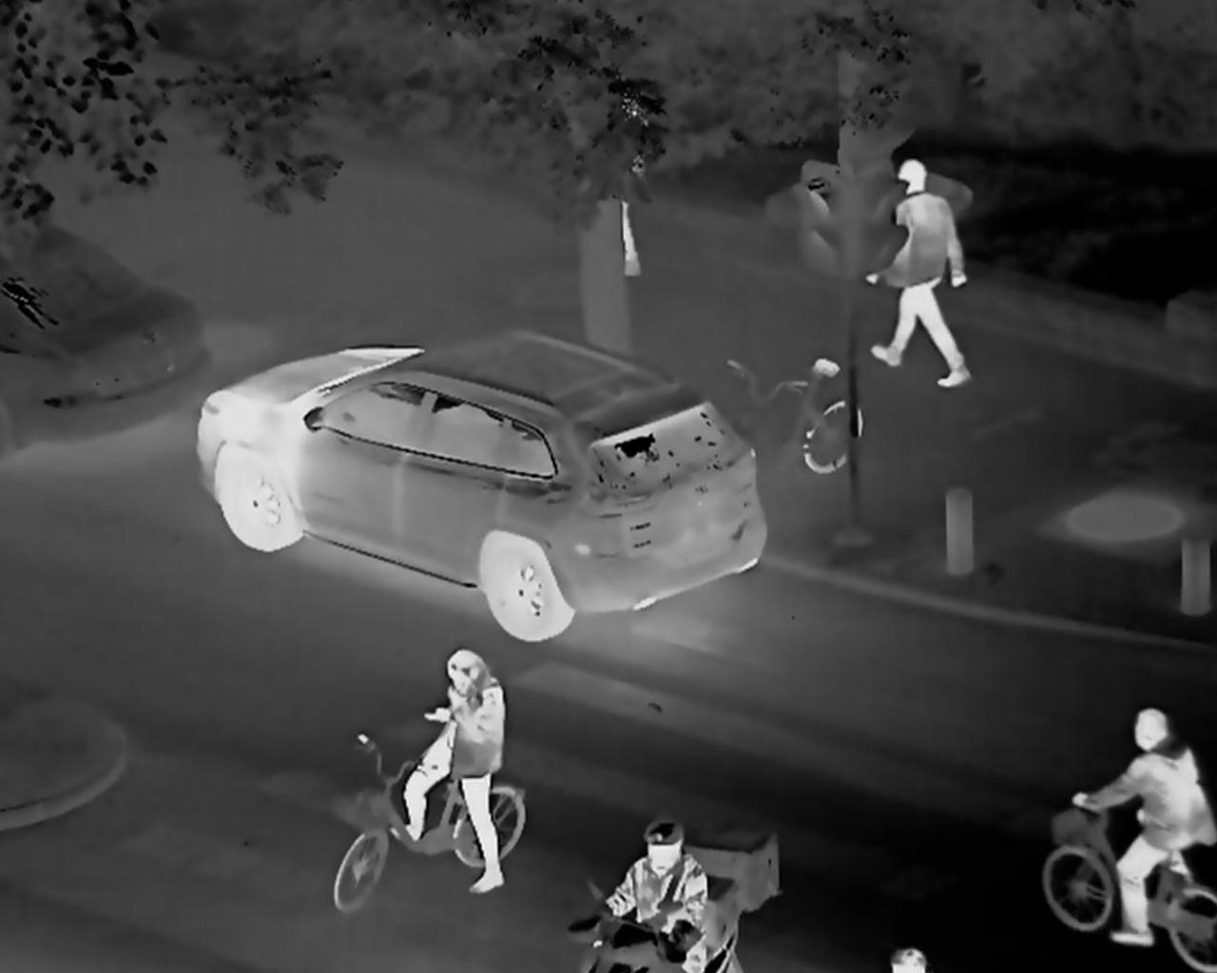person: (1071, 708, 1217, 946), (385, 649, 508, 897), (869, 156, 971, 387), (567, 820, 706, 973)
